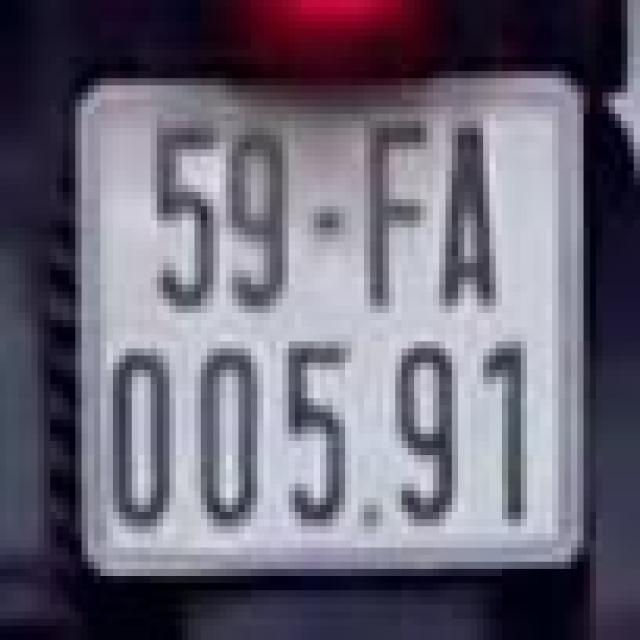0: (182, 334, 270, 540), (100, 338, 182, 530)
1: (473, 324, 542, 544)
5: (273, 327, 354, 541), (144, 114, 226, 320)
9: (383, 334, 464, 534), (226, 121, 295, 320)
A: (433, 114, 508, 320)
F: (342, 107, 436, 313)
